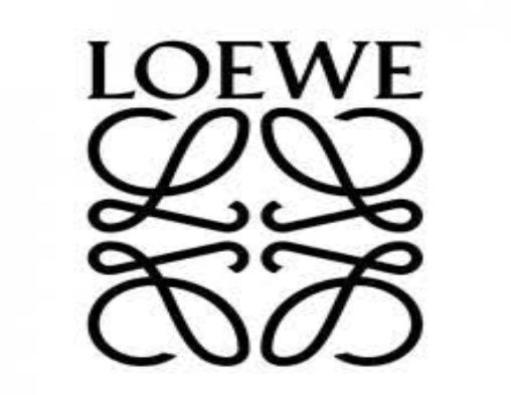LOEWE: (63, 19, 438, 384)
